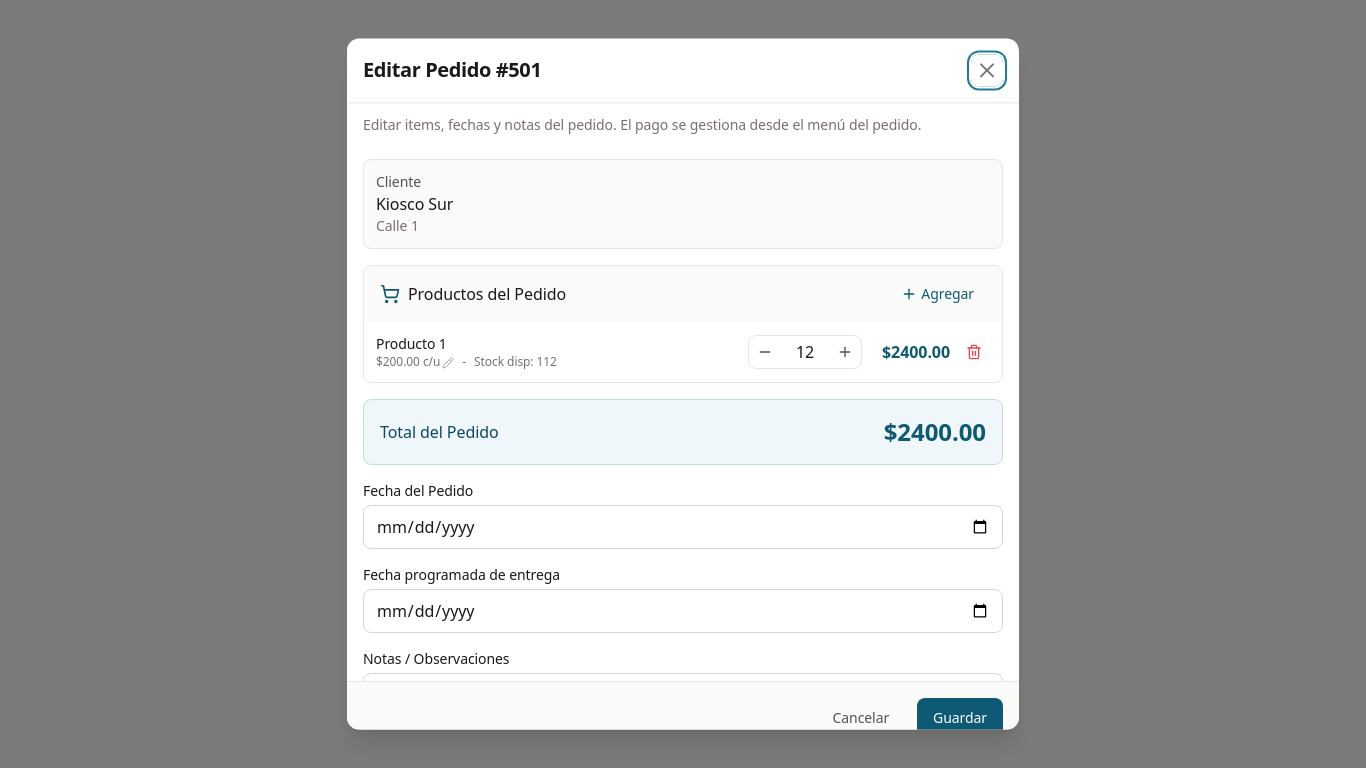
ModalEditarPedido — precios que se re-resuelven › vuelve al precio de lista cuando la cantidad cae por debajo de la escala
The image size is (1366, 768).
Expected: the text "Producto 1" is shown, left=376, top=334, right=447, bottom=354
Expected: the text "$200.00 c/u" is shown, left=376, top=354, right=454, bottom=370
Click the 3rd button: (765, 352) left=749, top=336, right=781, bottom=368
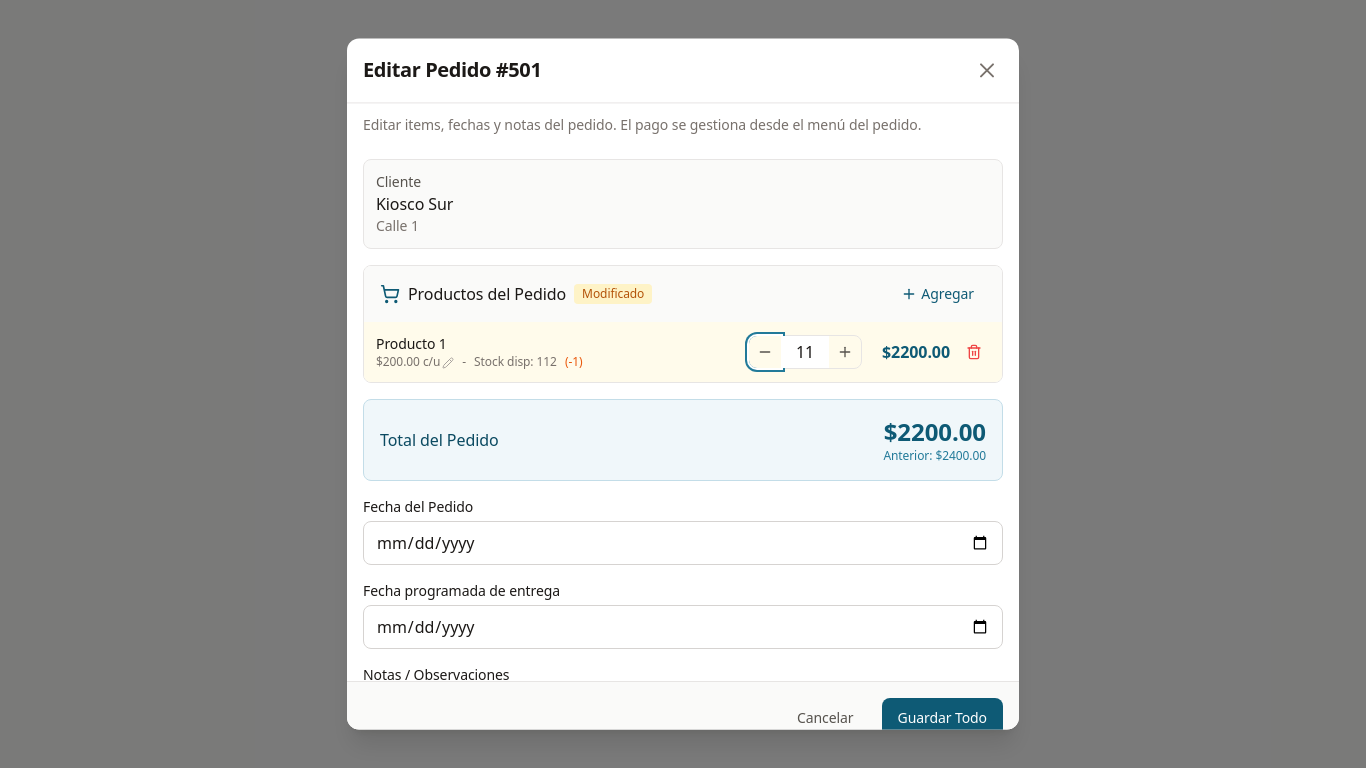
Click the 3rd button: (765, 352) left=749, top=336, right=781, bottom=368
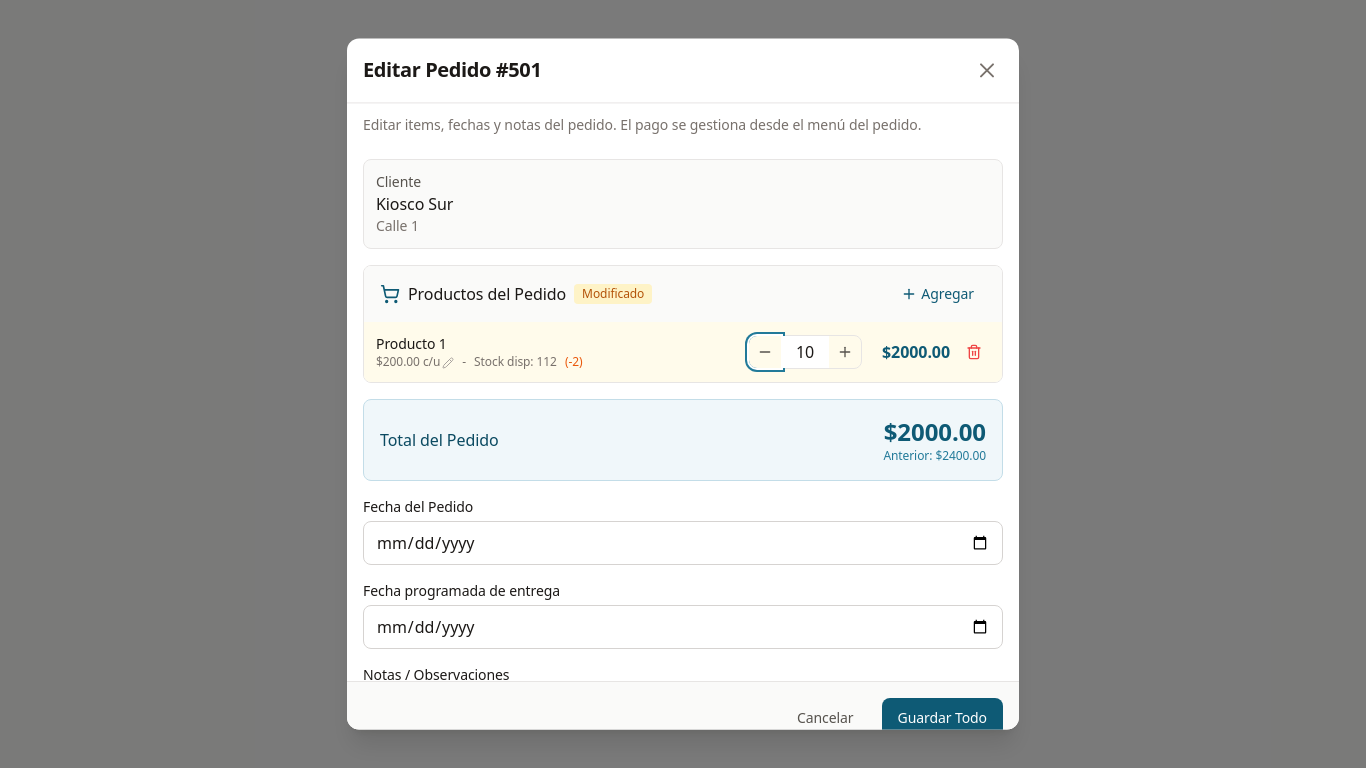
Click the 3rd button: (765, 352) left=749, top=336, right=781, bottom=368
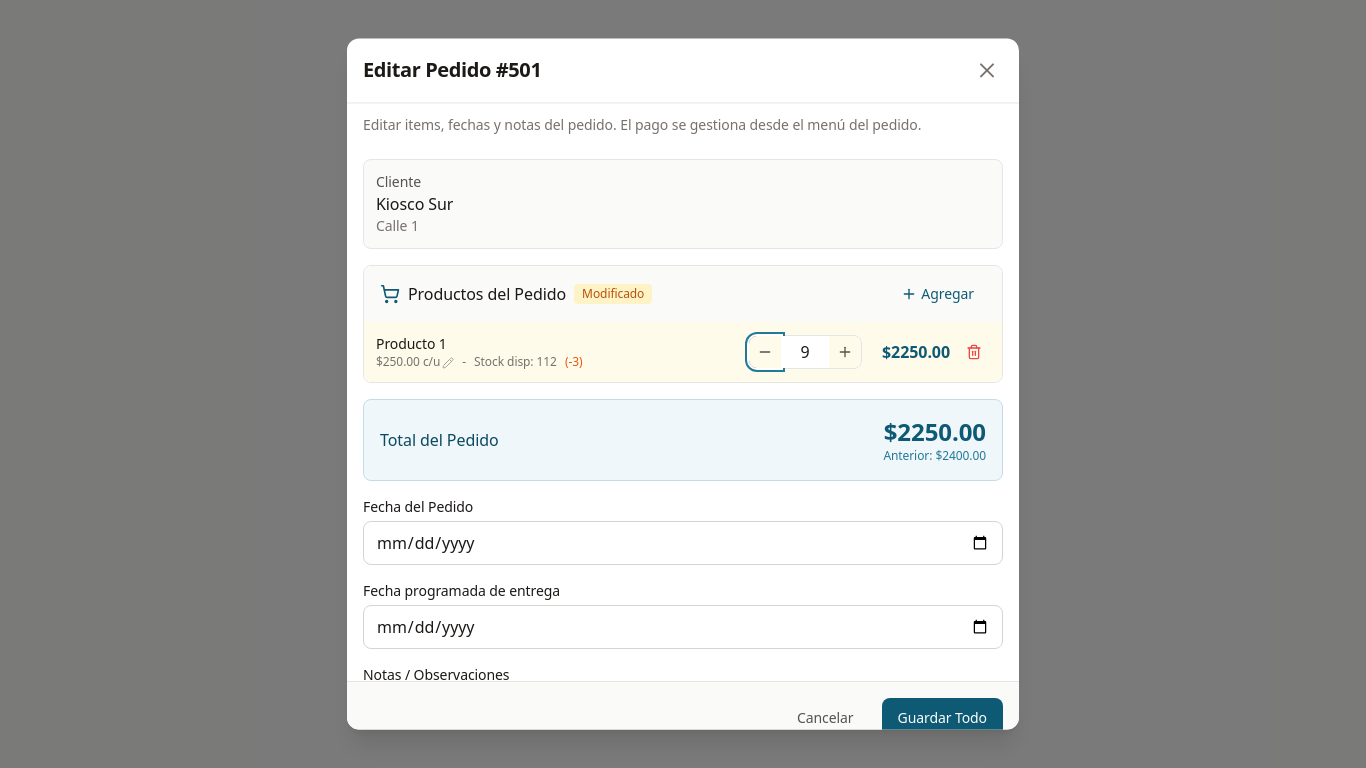
Result: the text "$250.00 c/u" is shown at left=376, top=354, right=454, bottom=370
Result: the text "$200.00 c/u" is gone
